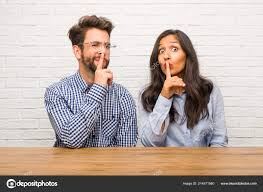white_male: (78, 24, 121, 81)
